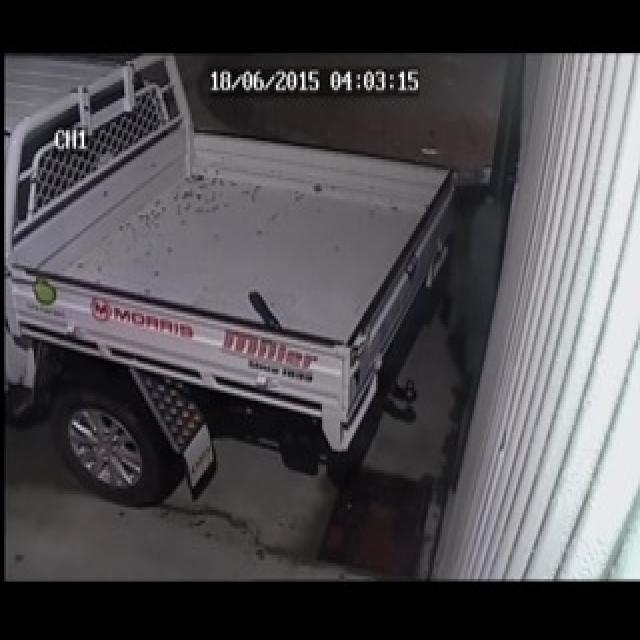burglary: (0, 98, 469, 498)
